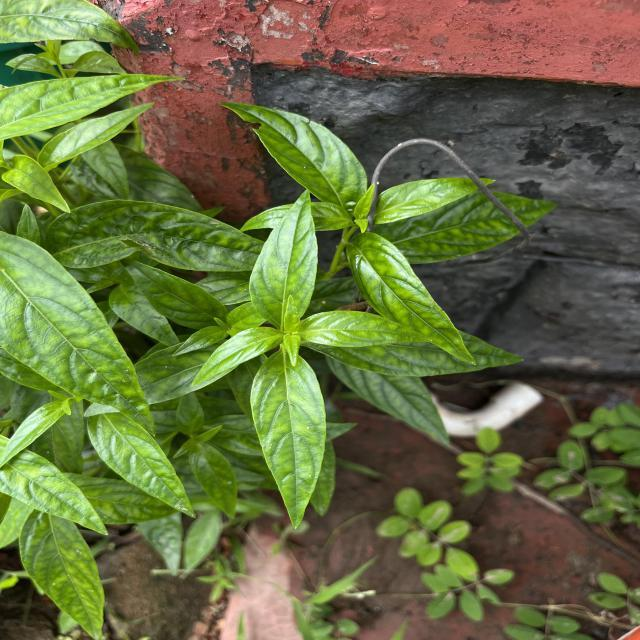Andrographis paniculata: (0, 230, 159, 438), (346, 231, 480, 366), (42, 199, 266, 274), (218, 100, 368, 208), (250, 352, 332, 532), (86, 410, 200, 521), (0, 434, 112, 536), (248, 186, 320, 328), (36, 100, 154, 170), (117, 258, 226, 330), (298, 310, 433, 348), (190, 442, 238, 520)
